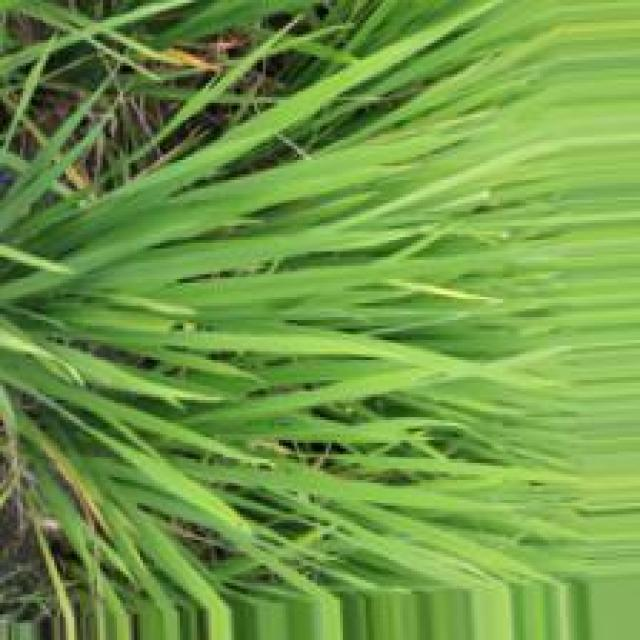HealthyLeaf: (98, 247, 229, 282), (100, 209, 197, 249), (208, 273, 317, 302)
